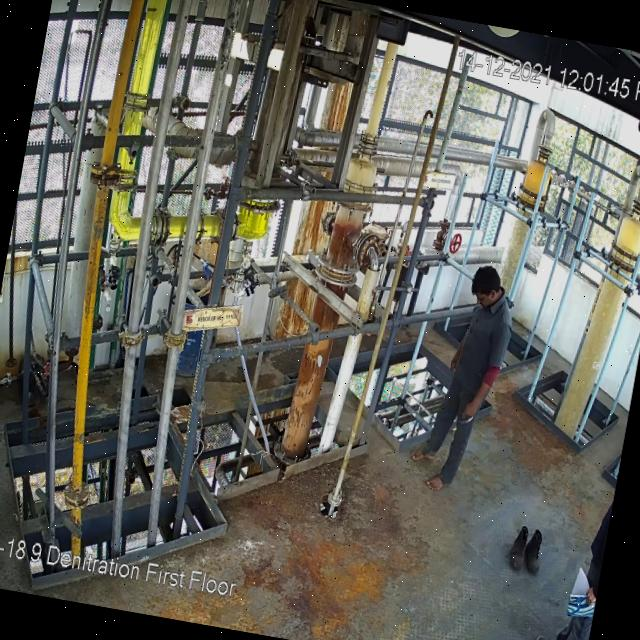boots: (505, 522, 535, 574), (522, 528, 548, 574)
no-boots: (424, 467, 449, 493)
